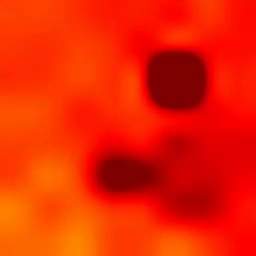person: (102, 136, 222, 217)
